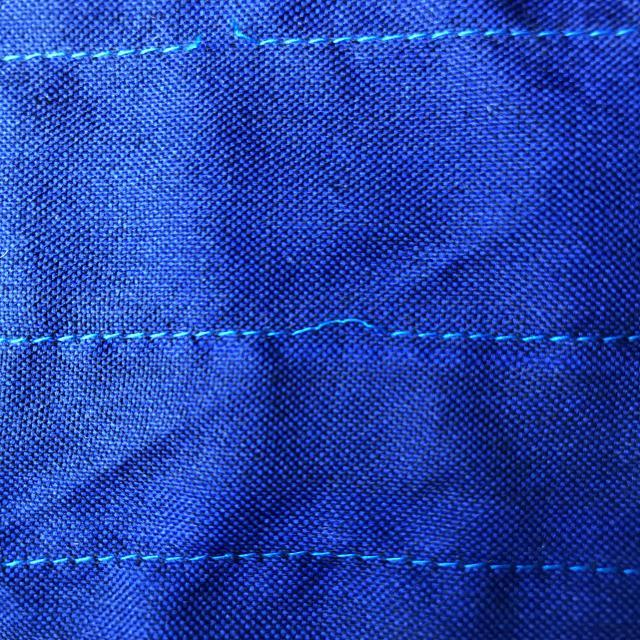broken: (168, 8, 288, 72)
skip: (280, 310, 416, 358)
